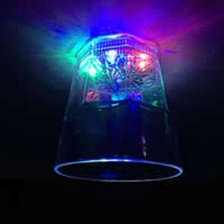glass: (50, 26, 190, 190)
